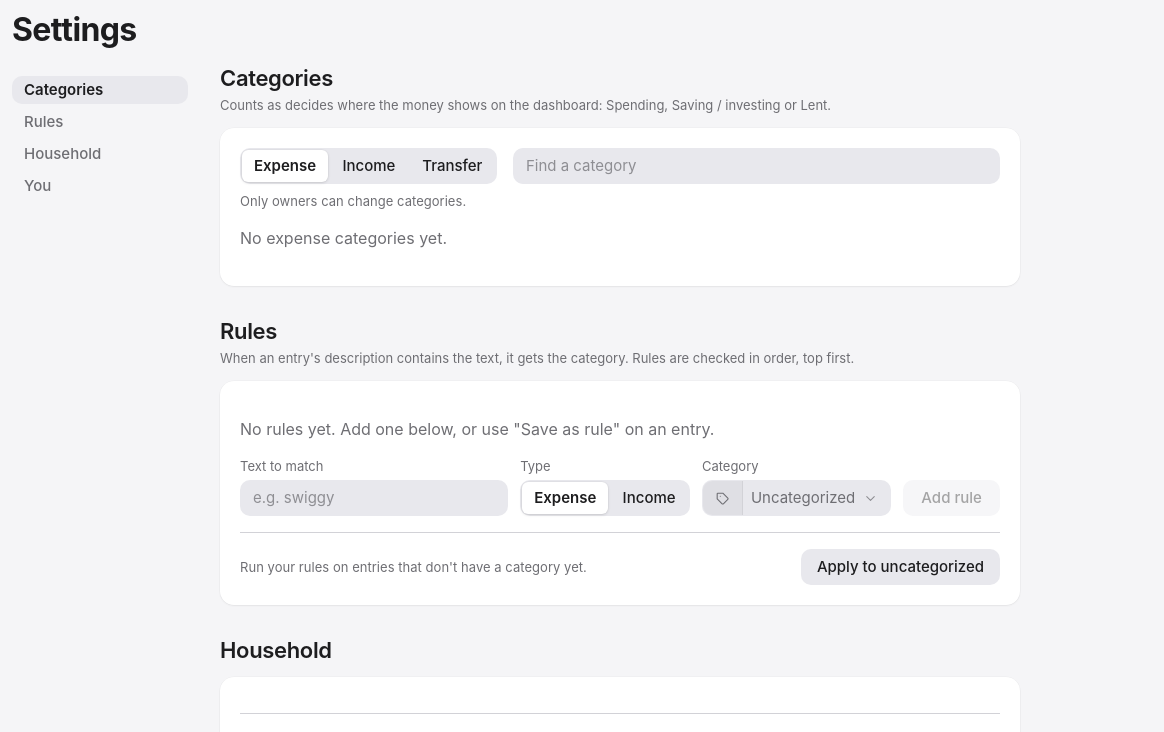
Test: says so when no uncategorized entry matched a rule
This screenshot has width=1164, height=732.
Click the button "Apply to uncategorized".
click(900, 568)  # box x1=801 y1=550 x2=1000 y2=586
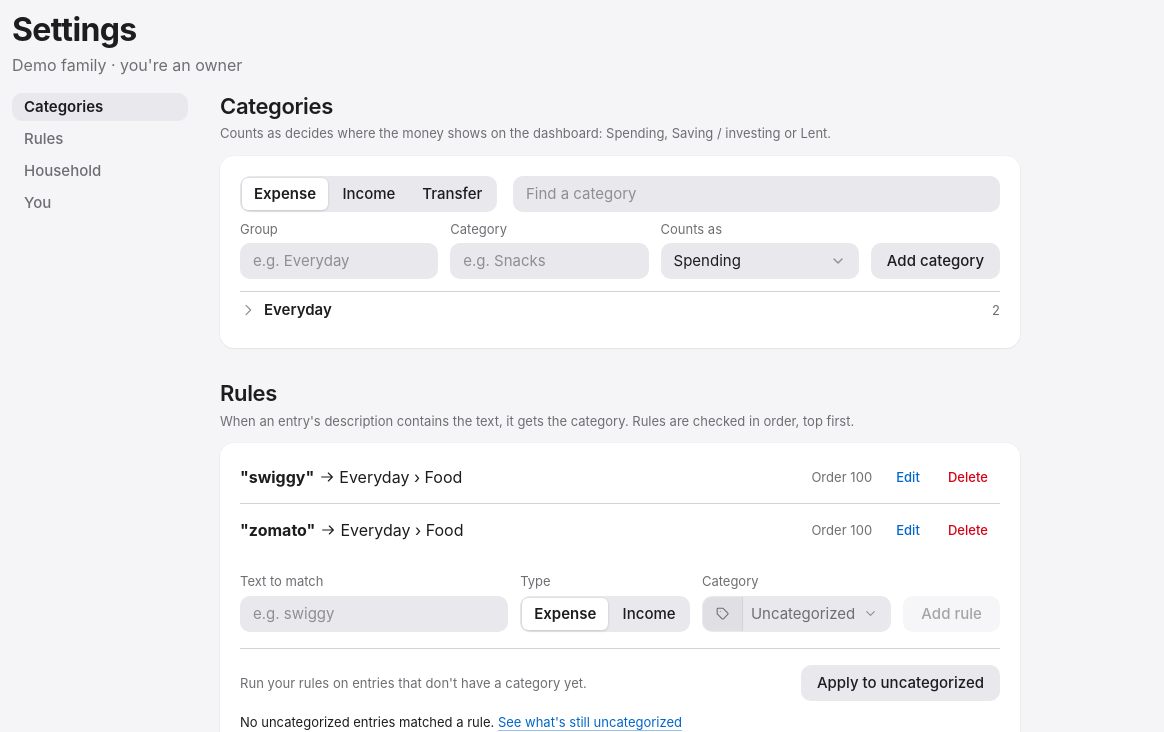
Expected: the text "No uncategorized entries matched a rule. See what's still uncategorized" is shown, x1=240 y1=714 x2=682 y2=730
